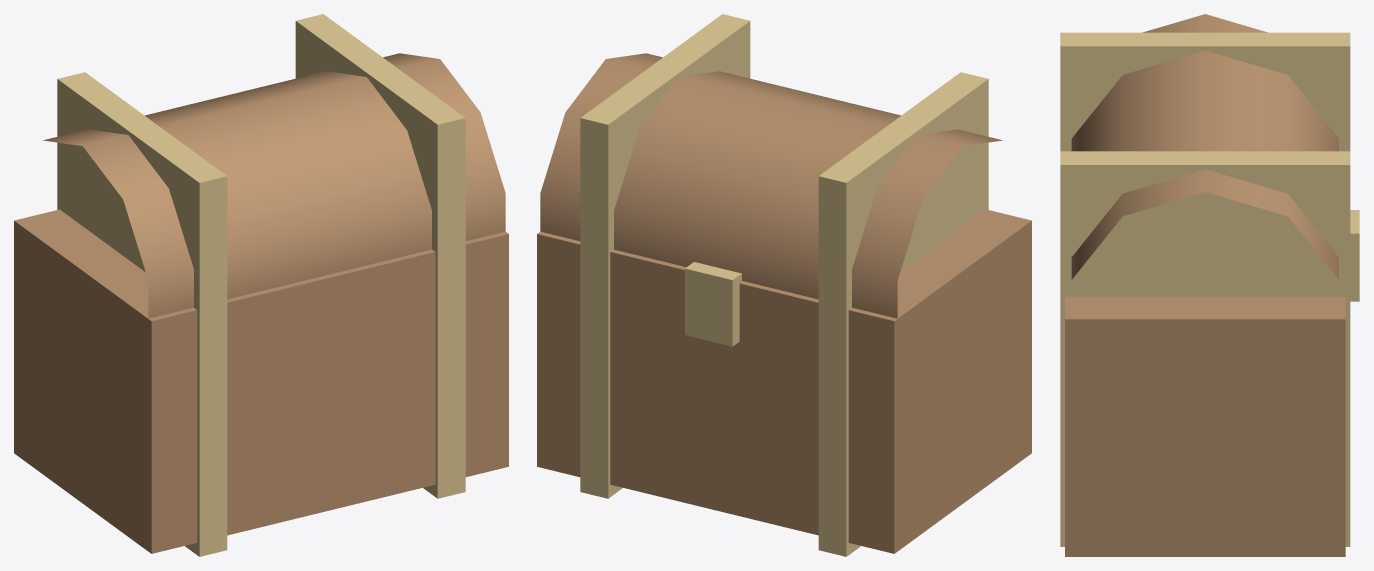
Rendered from Chest.glb.
The picture shows the model from 3 angles, left to right: view 1: azimuth 30°, elevation 25°; view 2: azimuth 150°, elevation 25°; view 3: azimuth 270°, elevation 25°; orthographic projection. The views are drawn at different scales.
Parts seen in each view (by area): view 1: Chest; view 2: Chest; view 3: Chest.
Boxes of the visible parts, x1=… form: Chest: x1=14, y1=14, x2=508, y2=556; Chest: x1=537, y1=14, x2=1031, y2=556; Chest: x1=1060, y1=14, x2=1359, y2=556.
Bounding box in the file's own units: 0.9 × 0.9 × 0.64.
